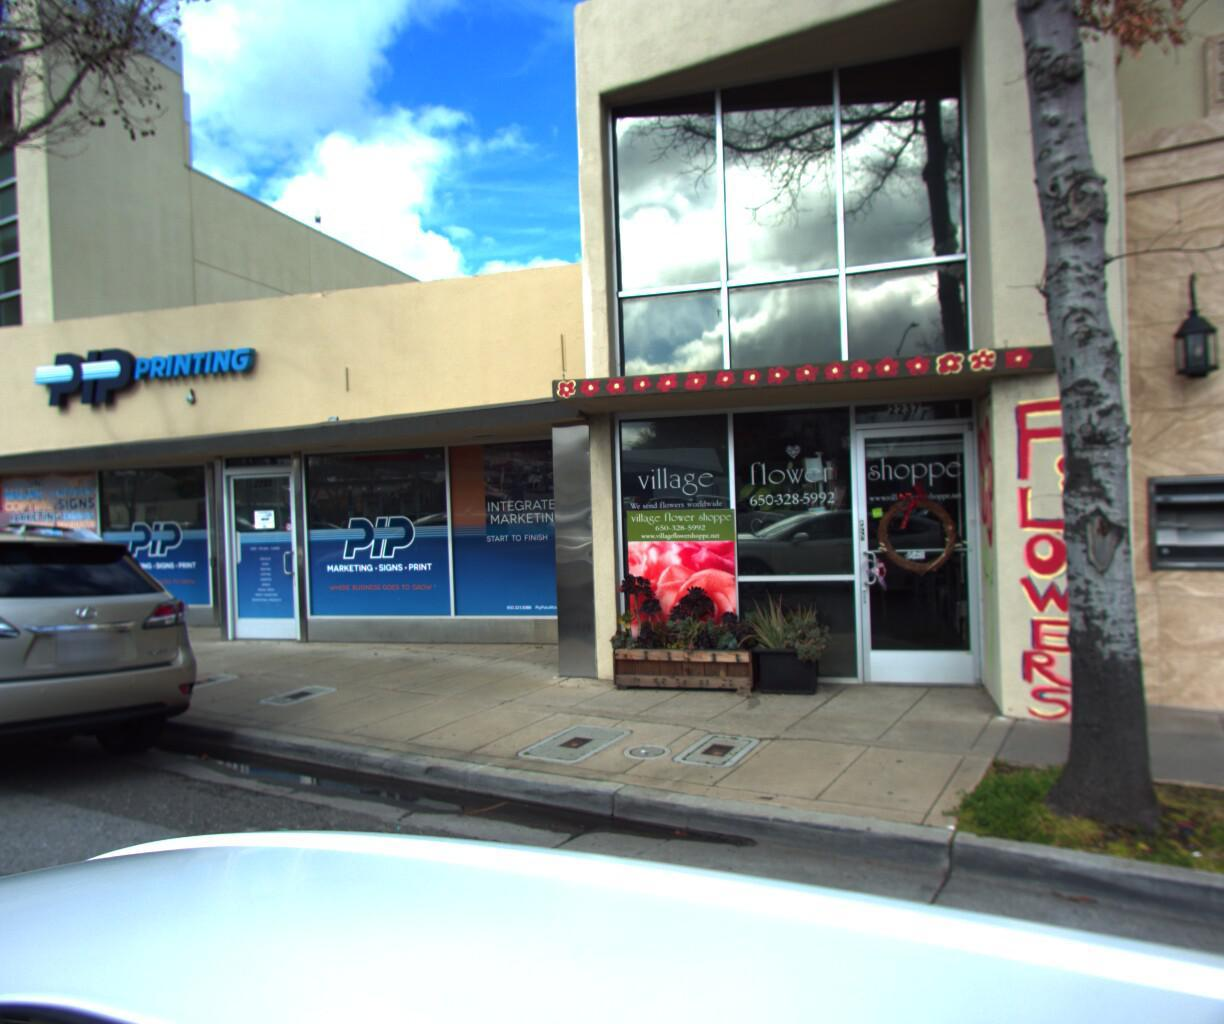car: (0, 505, 232, 852)
